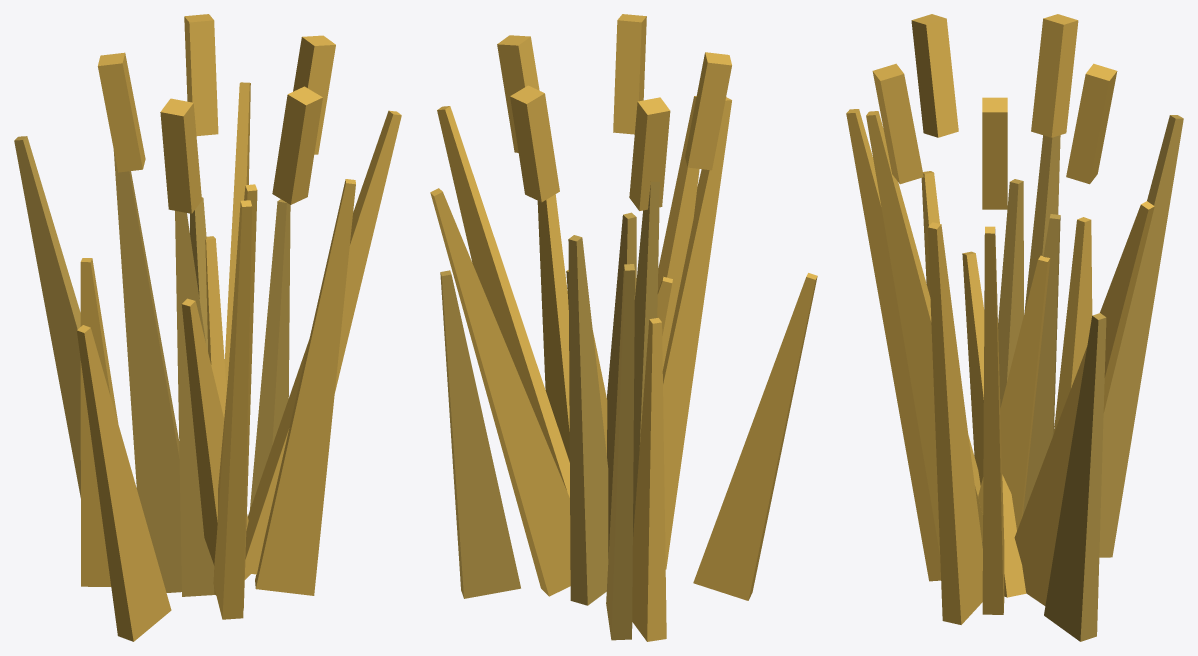
The model's file is Grass_Clump_Dry.fbx.
3 renders of one model, left to right at view 1: azimuth 30°, elevation 25°; view 2: azimuth 150°, elevation 25°; view 3: azimuth 270°, elevation 25°, orthographic.
Parts seen in each view (by area): view 1: Grass_Clump_Dry; view 2: Grass_Clump_Dry; view 3: Grass_Clump_Dry.
Boxes of the visible parts, <box> form: Grass_Clump_Dry: <box>14,14,401,641</box>; Grass_Clump_Dry: <box>430,14,817,641</box>; Grass_Clump_Dry: <box>846,14,1183,641</box>.
Bounding box in the file's own units: 0.4818 × 0.6943 × 0.3982.
